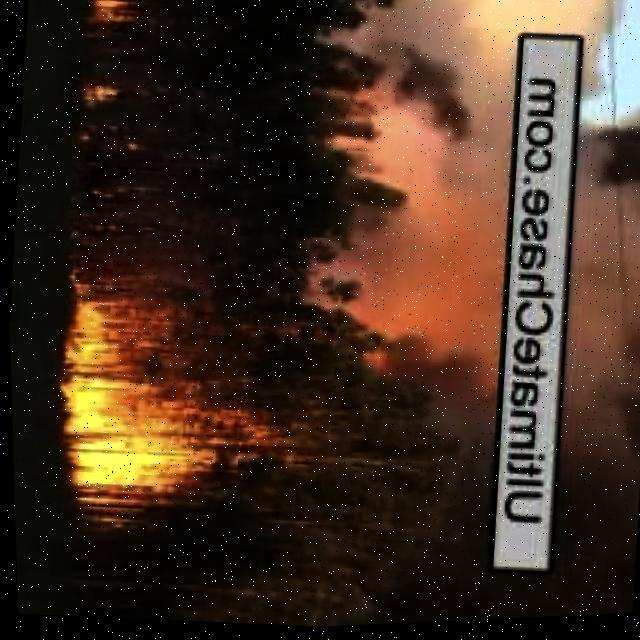Fire: (47, 275, 236, 518), (82, 0, 140, 33), (81, 74, 119, 118)
Smoke: (260, 0, 530, 631), (538, 103, 640, 621)
